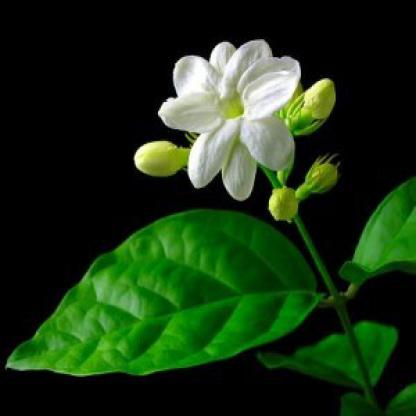Melati: (160, 42, 316, 201), (254, 154, 344, 225), (281, 76, 362, 130), (109, 136, 217, 174)
